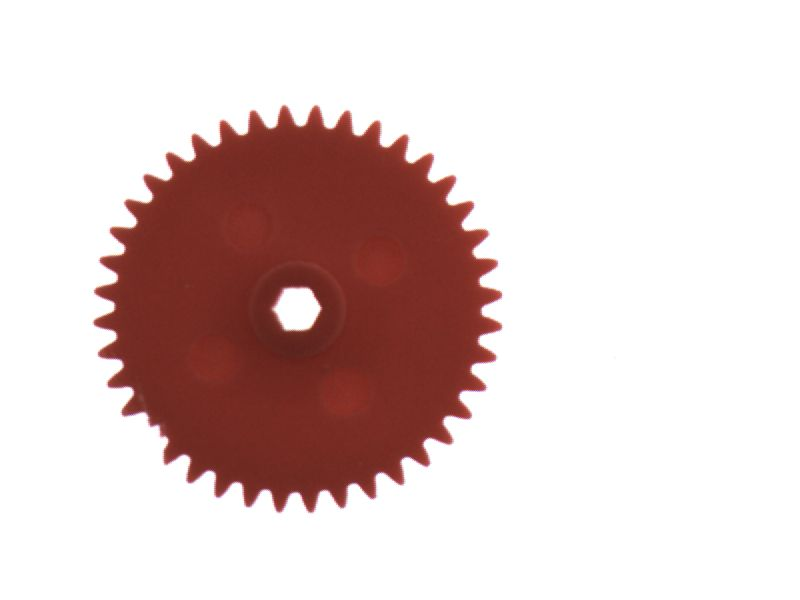defect_lack: (108, 408, 178, 467)
